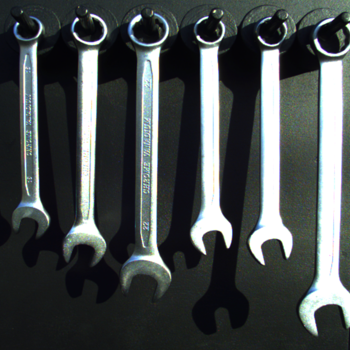bottom: (296, 280, 350, 338), (116, 256, 173, 305), (245, 220, 294, 267), (60, 224, 107, 268), (187, 213, 234, 257), (9, 199, 52, 240)
top: (308, 13, 350, 65), (123, 10, 172, 50), (67, 11, 112, 51), (191, 13, 228, 49), (253, 14, 288, 50), (12, 13, 47, 45)
